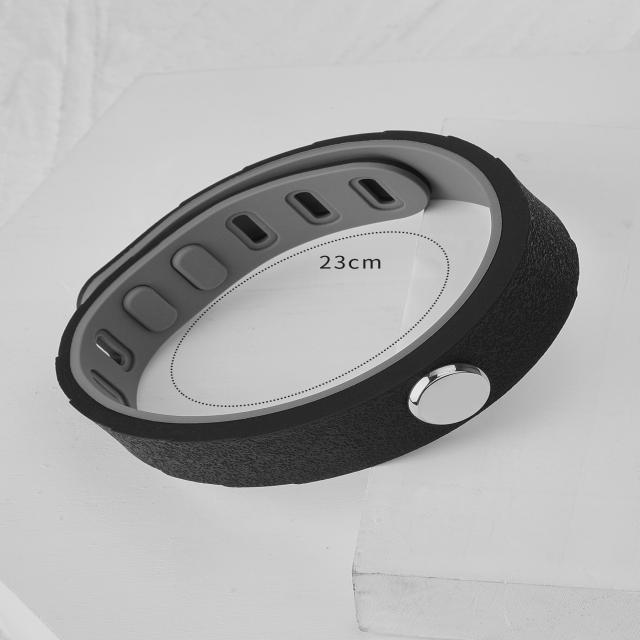bracelet: (11, 50, 640, 632)
